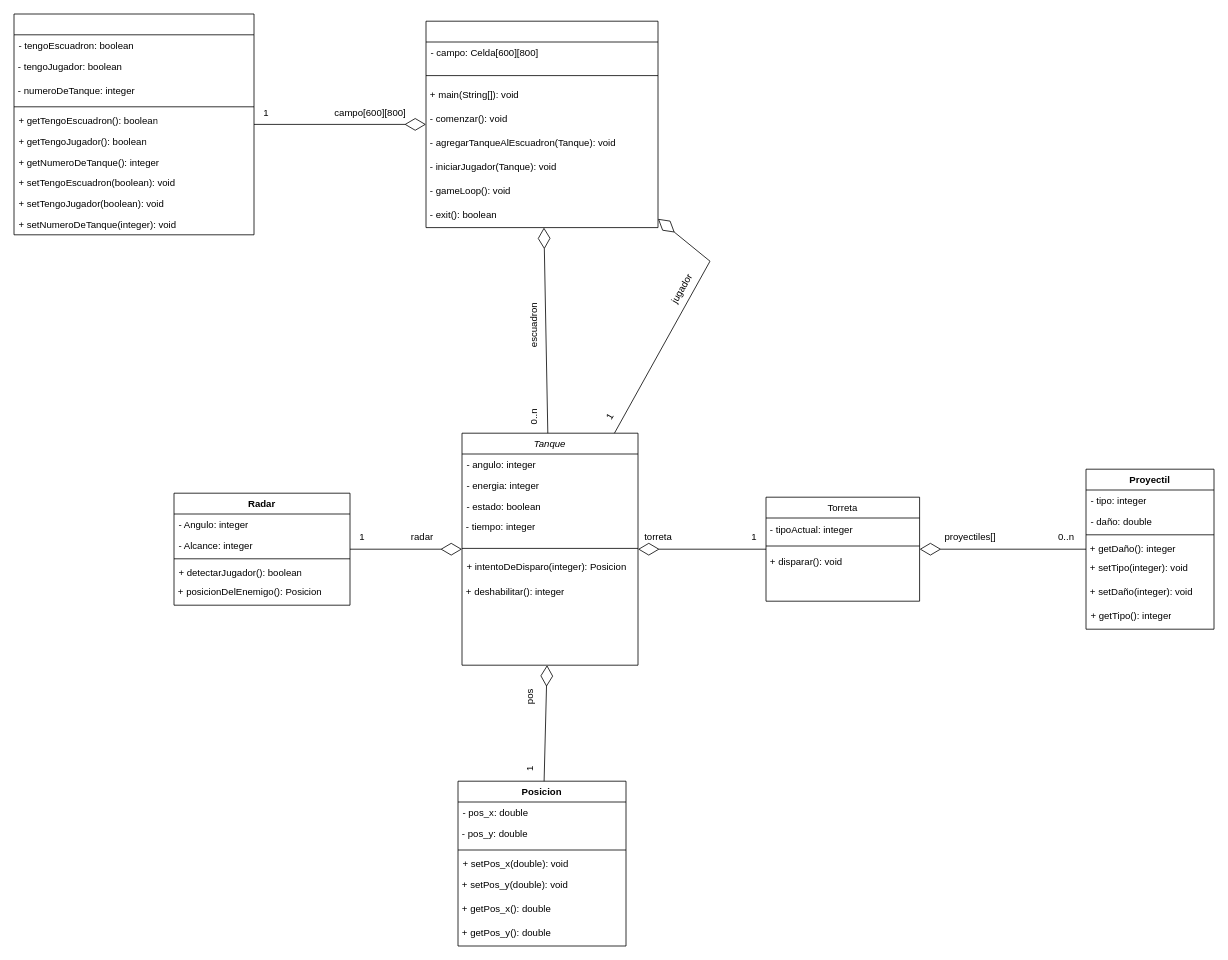
This 1228x960 diagram has some shape labels left out. The shapes that lost their labels are listed below. From the top down, each one's box as (x1, y1, x2, y2) in pixels, then its label:
(13, 13, 254, 235): Celda
(425, 20, 658, 228): Juego
